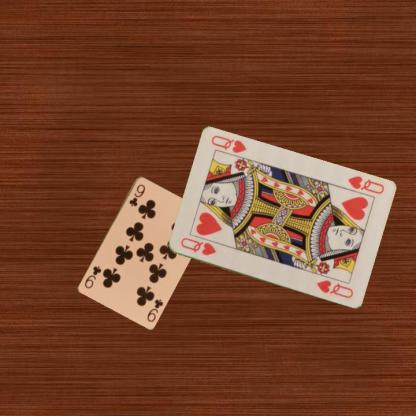9c: (145, 296, 164, 323), (127, 182, 146, 208)
Qh: (345, 173, 385, 196), (178, 235, 218, 257)
